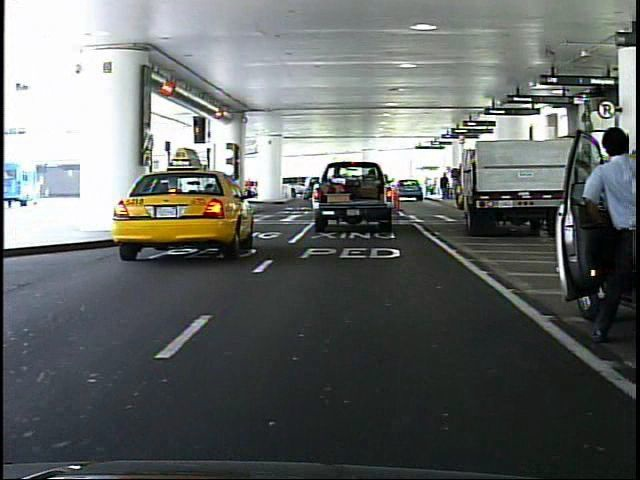person: (567, 120, 640, 340), (203, 167, 222, 214)
